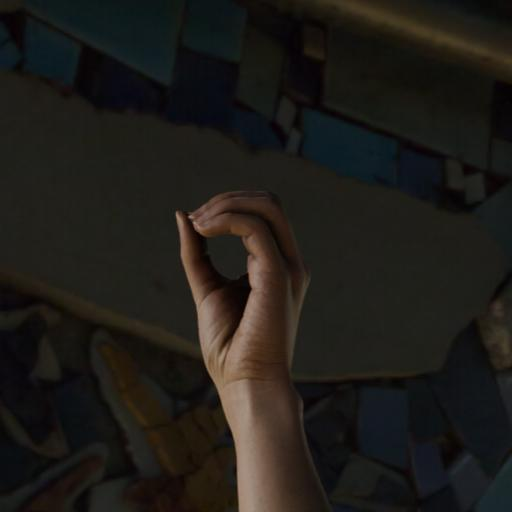O: (114, 161, 432, 473)
